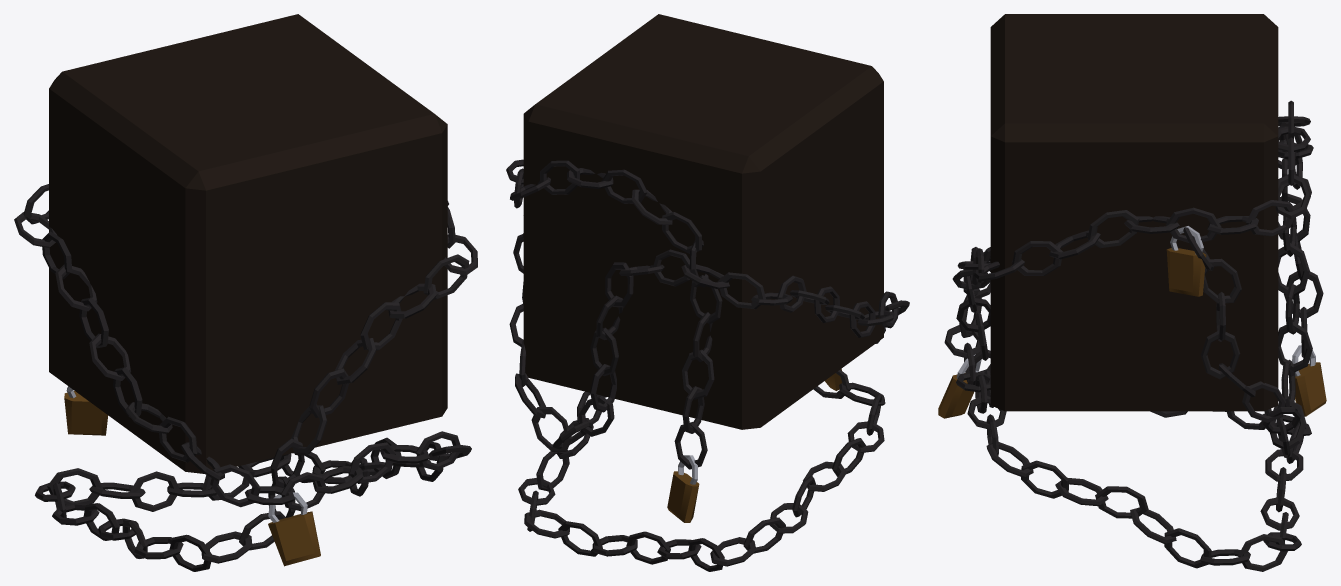
3 renders of one model, left to right at view 1: azimuth 30°, elevation 25°; view 2: azimuth 150°, elevation 25°; view 3: azimuth 270°, elevation 25°, orthographic. The views are drawn at different scales.
Parts seen in each view (by area): view 1: Meshpart4, Meshpart3, Meshpart2; view 2: Meshpart4, Meshpart3, Meshpart2; view 3: Meshpart4, Meshpart3, Meshpart2, Meshpart1.
Part boxes in pixels (x1,y1,x2,y2): Meshpart4: (49,14,447,473); Meshpart3: (14,184,477,571); Meshpart2: (64,391,320,566); Meshpart4: (523,14,883,429); Meshpart3: (506,159,909,571); Meshpart2: (667,369,842,522); Meshpart4: (990,14,1278,411); Meshpart3: (944,100,1323,571); Meshpart2: (938,248,1326,418); Meshpart1: (956,226,1315,378).
Size of the model in its own units: 1.41 by 1.93 by 1.5.
